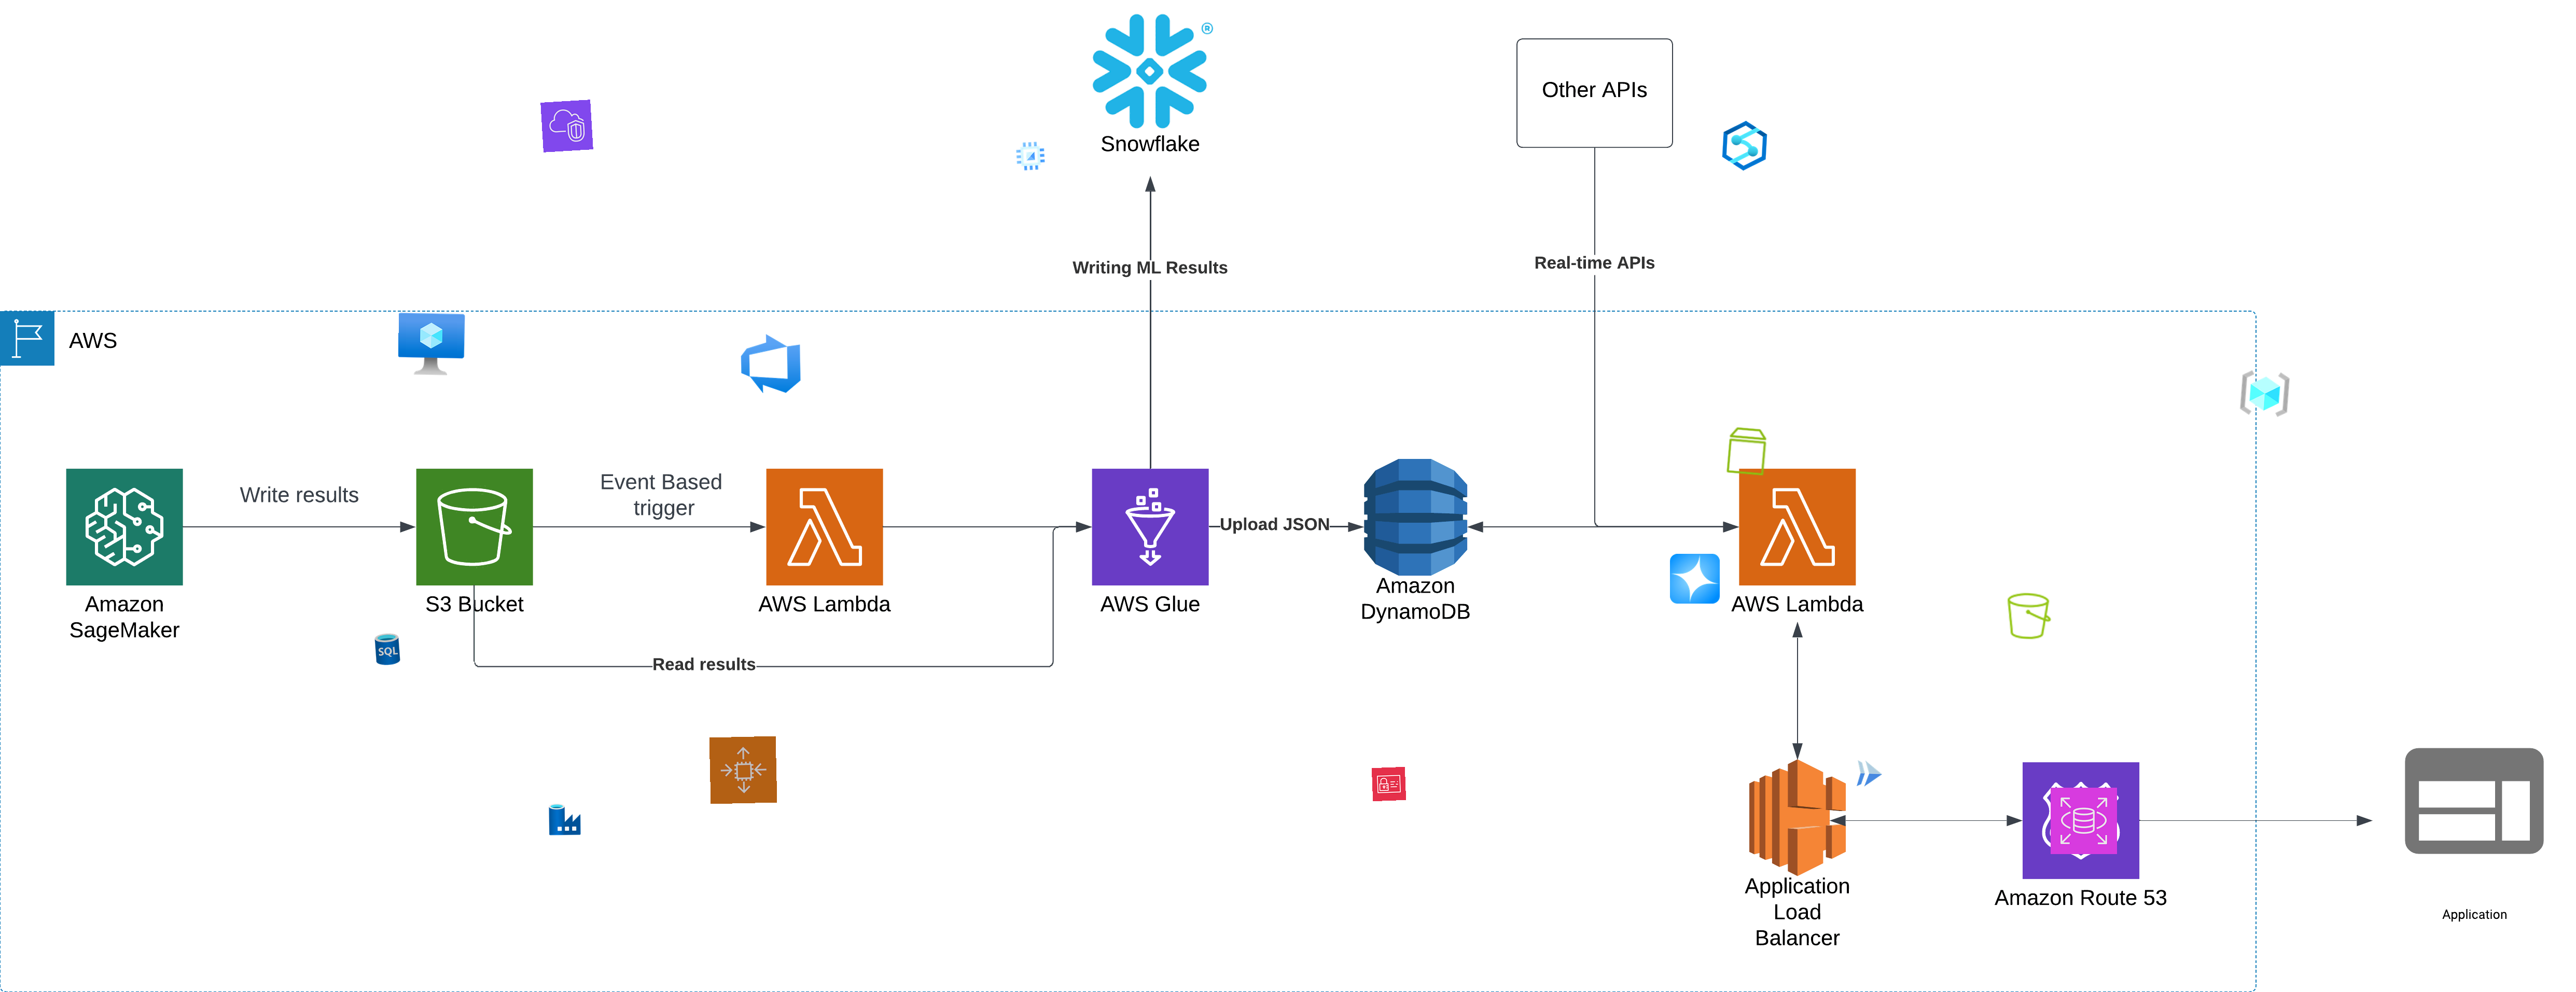aws_amazon_ec2_auto_scaling: (710, 736, 777, 805)
aws_amazon_rds: (2050, 787, 2118, 854)
aws_amazon_virtual_private_cloud: (540, 100, 593, 153)
aws_elastic_block_store_volume: (1720, 424, 1774, 478)
aws_identity_and_access_management: (1372, 767, 1406, 801)
aws_simple_storage_service_s3_standard: (2003, 590, 2055, 642)
azure_data_factories: (547, 801, 582, 836)
azure_devops: (736, 328, 805, 397)
azure_openai: (1669, 553, 1720, 604)
azure_resource_groups: (2238, 366, 2292, 420)
azure_sql_database: (370, 631, 406, 667)
azure_synapse_analytics: (1718, 120, 1771, 172)
azure_virtual_machine: (398, 312, 465, 379)
gcp_cloud_run: (1851, 755, 1886, 792)
gcp_compute_engine: (1014, 138, 1048, 174)
